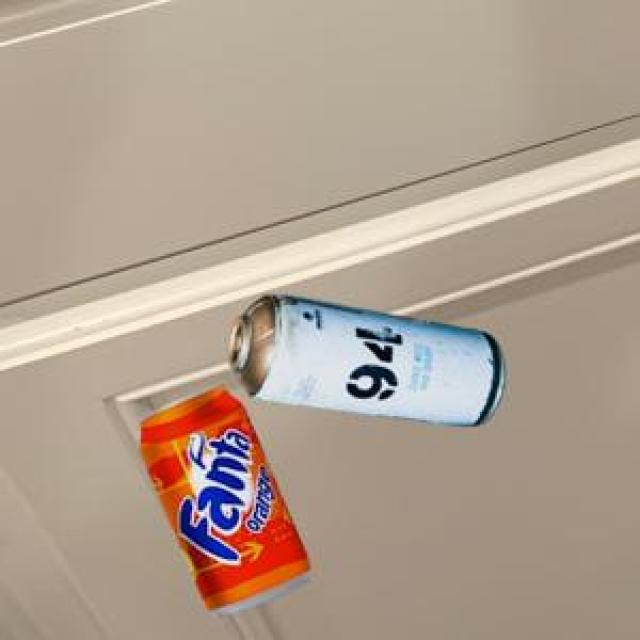logam: (138, 383, 306, 613), (225, 291, 500, 423)
